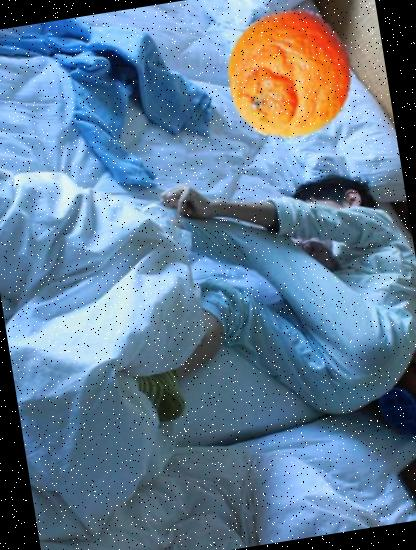Mandarine: (214, 0, 366, 150)
